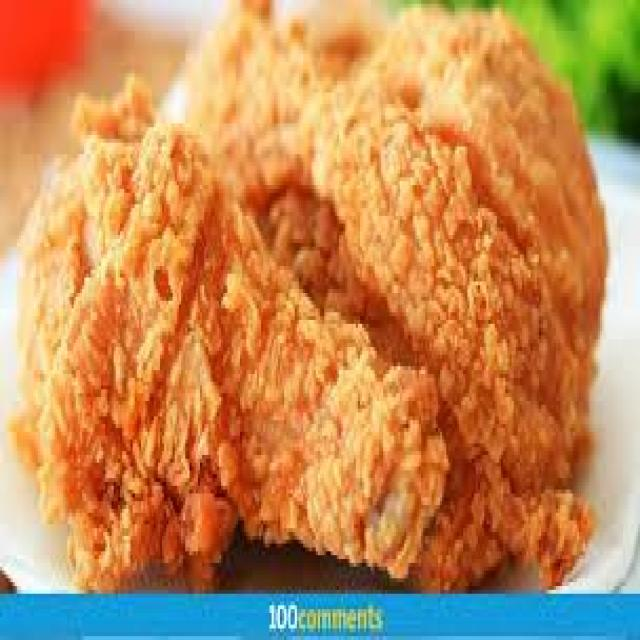Frango: (51, 145, 441, 562), (344, 41, 586, 380)
